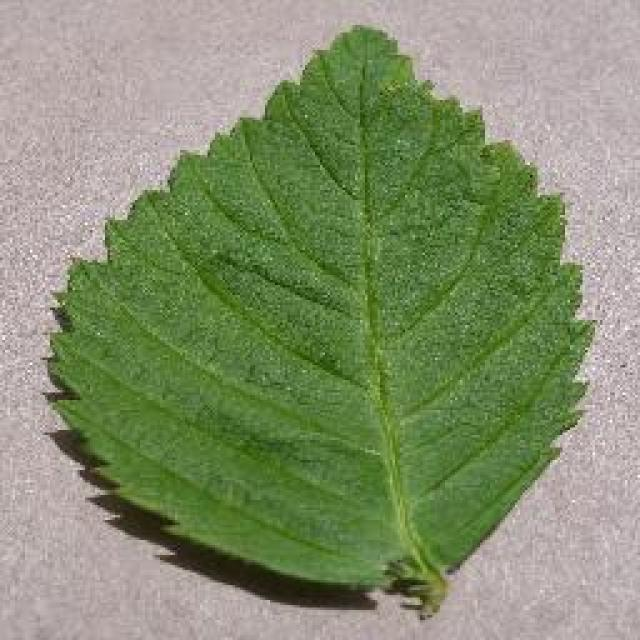Ras_healthy: (49, 93, 563, 560)
